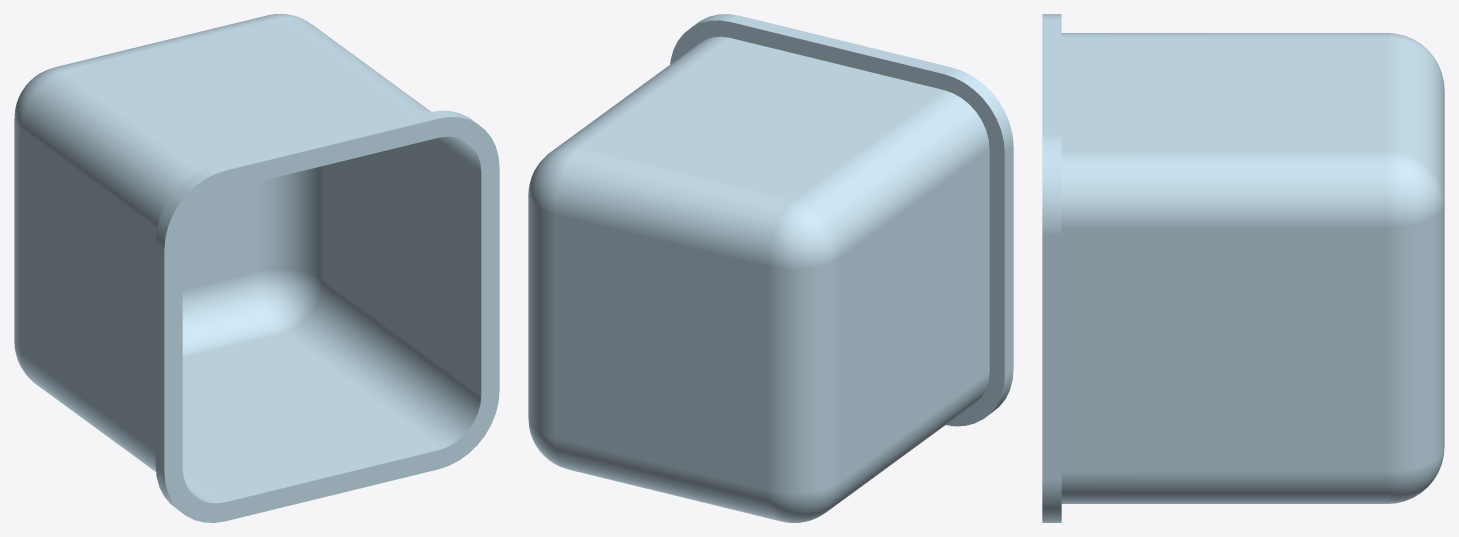
Rendered from bin10In-YvwRRoa_.gltf.
3 views of the same model, side by side, from view 1: azimuth 30°, elevation 25°; view 2: azimuth 150°, elevation 25°; view 3: azimuth 270°, elevation 25° (orthographic). The views are drawn at different scales.
Parts seen in each view (by area): view 1: Part 1; view 2: Part 1; view 3: Part 1.
Boxes of the visible parts, x1,y1,x2,y2 form: Part 1: (14,14,499,522); Part 1: (528,14,1013,522); Part 1: (1042,14,1444,522).
Size of the model in its own units: 0.2794 by 0.2794 by 0.2667.
